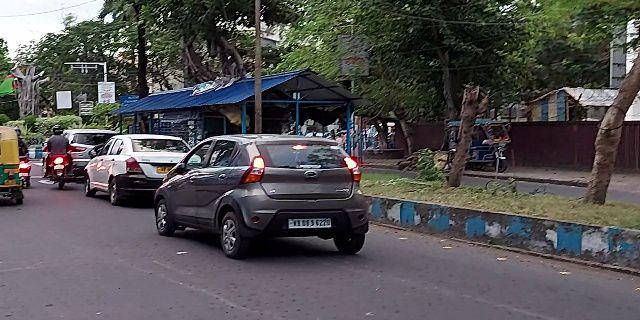Autorickshaw: (1, 124, 26, 208)
Car: (151, 133, 375, 258), (83, 125, 189, 202)
Motorbike: (46, 121, 74, 193)
